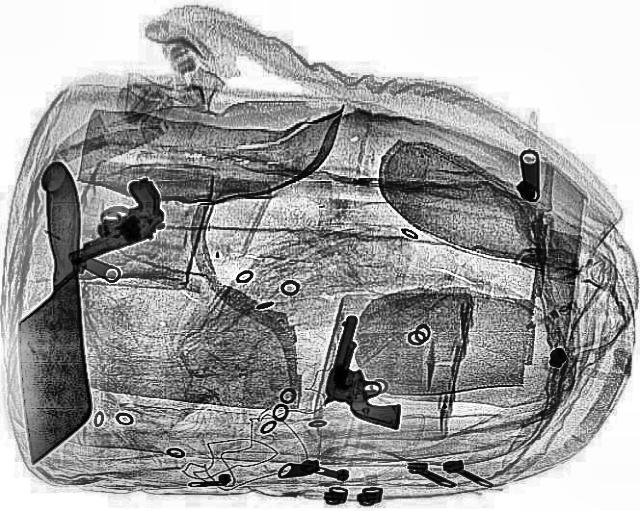Gun: (315, 313, 423, 429), (39, 176, 179, 264)
Knife: (6, 160, 92, 464)
